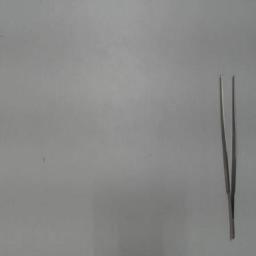Gillies Toothed Dissector: (216, 62, 238, 238)
